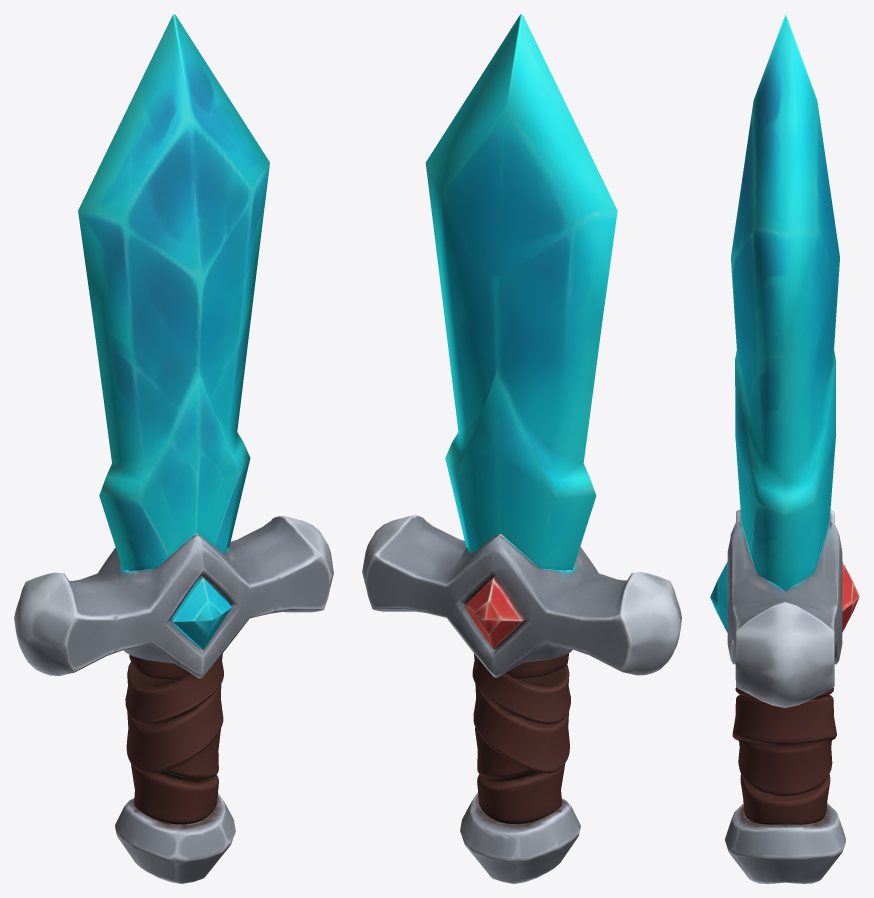
File: sword.fbx
3 renders of one model, left to right at view 1: azimuth 30°, elevation 25°; view 2: azimuth 150°, elevation 25°; view 3: azimuth 270°, elevation 25°, orthographic.
Visible parts, largest first — view 1: tripo_node_249f0c5b-66a8-4442-8e9c-56196ee3698e; view 2: tripo_node_249f0c5b-66a8-4442-8e9c-56196ee3698e; view 3: tripo_node_249f0c5b-66a8-4442-8e9c-56196ee3698e.
Boxes of the visible parts, box(x1,y1,x2,y2) form: tripo_node_249f0c5b-66a8-4442-8e9c-56196ee3698e: box(14, 14, 333, 883); tripo_node_249f0c5b-66a8-4442-8e9c-56196ee3698e: box(362, 14, 681, 883); tripo_node_249f0c5b-66a8-4442-8e9c-56196ee3698e: box(710, 14, 859, 883).
Bounding box in the file's own units: 50.98 × 135 × 21.17.
1 material, 1 textured.
